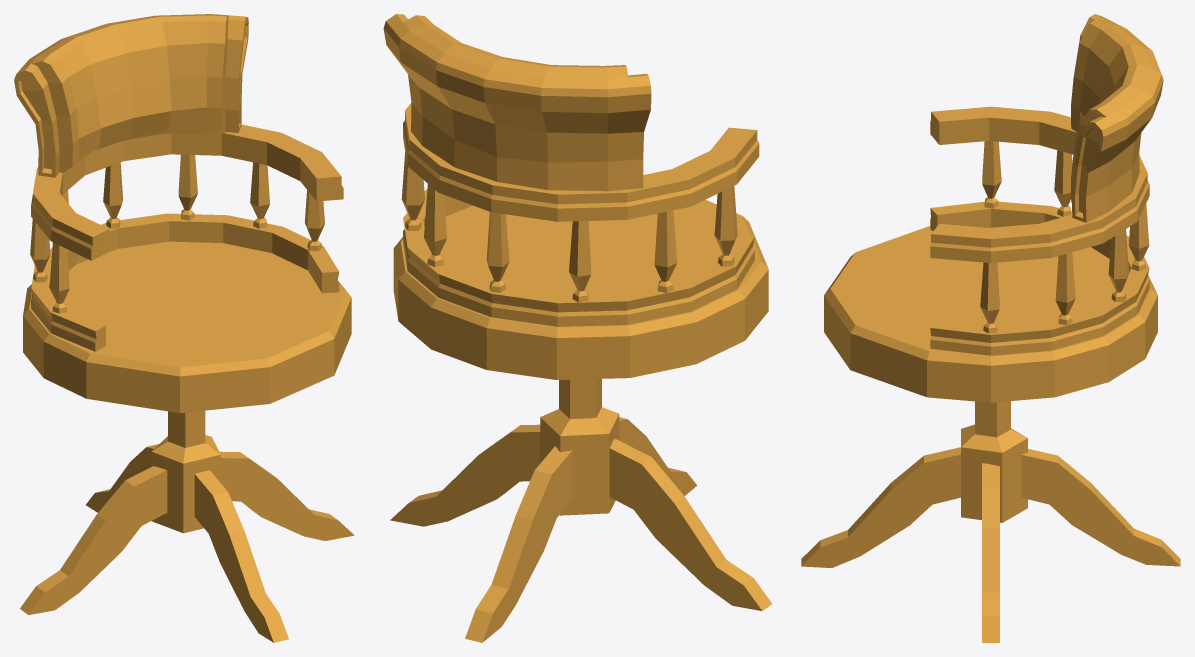
The model's file is SM_Chair_Office.fbx.
3 views of the same model, side by side, from view 1: azimuth 30°, elevation 25°; view 2: azimuth 150°, elevation 25°; view 3: azimuth 270°, elevation 25° (orthographic). The views are drawn at different scales.
Parts seen in each view (by area): view 1: chair-office; view 2: chair-office; view 3: chair-office.
Part boxes in pixels (x1,y1,x2,y2): chair-office: (14,14,354,642); chair-office: (383,14,772,642); chair-office: (801,14,1180,642).
Bounding box in the file's own units: 0.6277 × 0.9128 × 0.6277.
